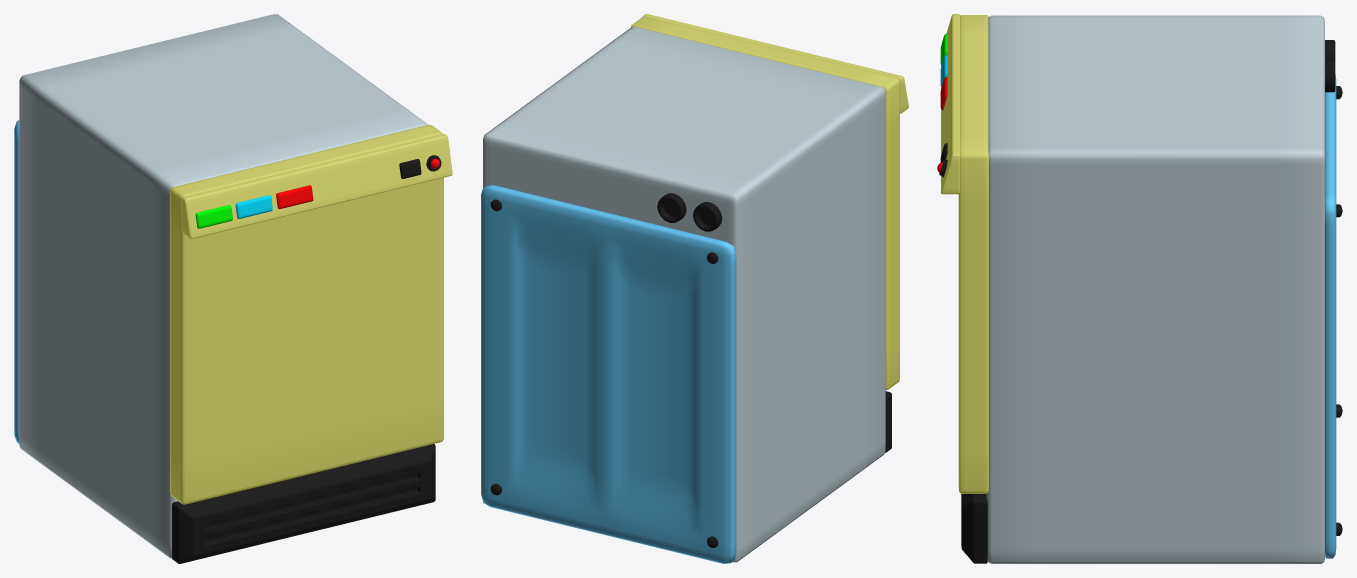
File: Dishwasher.fbx
3 views of the same model, side by side, from view 1: azimuth 30°, elevation 25°; view 2: azimuth 150°, elevation 25°; view 3: azimuth 270°, elevation 25° (orthographic). The views are drawn at different scales.
Parts seen in each view (by area): view 1: body, door, vent, panel, back_plate, button_2, button_1, button_3; view 2: body, back_plate, door, panel, plug_2, plug_1; view 3: body, door, back_plate, panel, vent.
Boxes of the visible parts, bbox=[...] form: body: bbox=[19, 14, 427, 558]; door: bbox=[170, 124, 443, 504]; vent: bbox=[172, 444, 435, 563]; panel: bbox=[182, 134, 452, 238]; back_plate: bbox=[14, 120, 19, 443]; button_2: bbox=[235, 195, 272, 218]; button_1: bbox=[195, 205, 232, 228]; button_3: bbox=[276, 185, 313, 209]; body: bbox=[483, 27, 885, 562]; back_plate: bbox=[481, 185, 736, 563]; door: bbox=[631, 16, 899, 390]; panel: bbox=[643, 14, 908, 113]; plug_2: bbox=[657, 193, 686, 222]; plug_1: bbox=[693, 202, 722, 231]; body: bbox=[986, 15, 1324, 563]; door: bbox=[958, 15, 988, 493]; back_plate: bbox=[1325, 74, 1336, 558]; panel: bbox=[941, 14, 959, 194]; vent: bbox=[961, 494, 987, 563].
Bounding box in the file's own units: 3.88 × 5.28 × 4.7.
